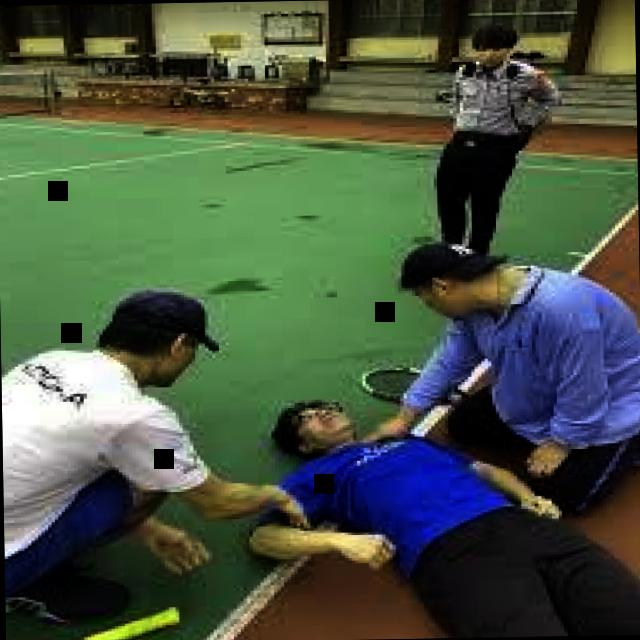Fall-Detected: (242, 375, 640, 640)
